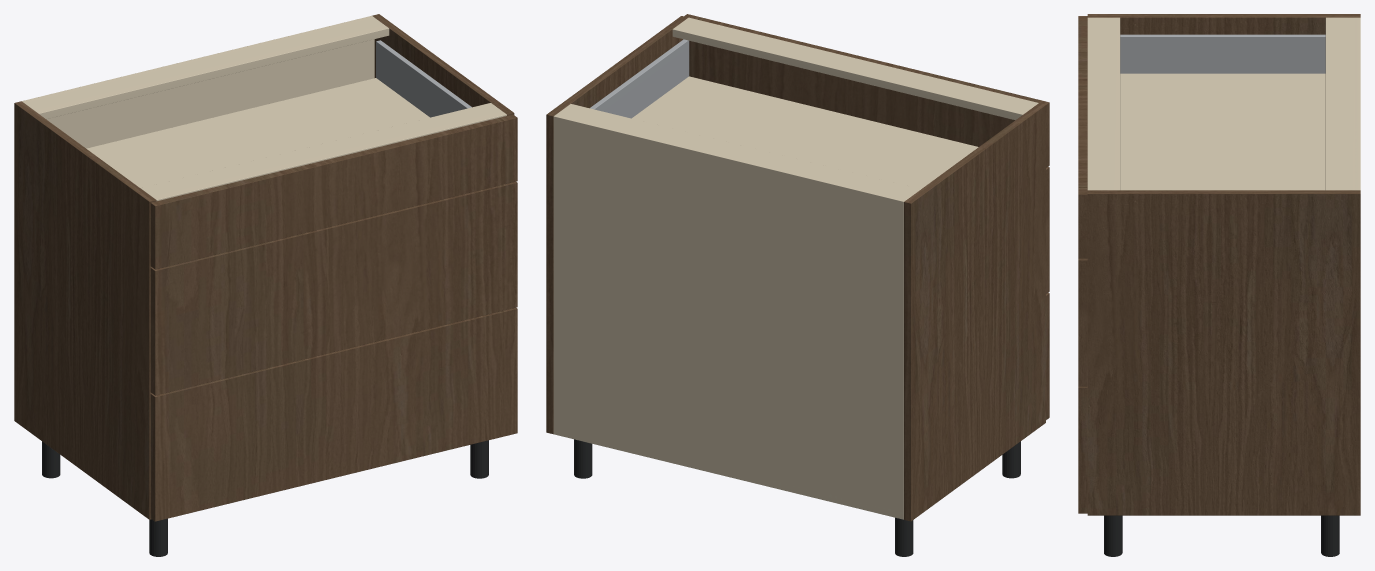
File: oppein-ply-mso-3db36.glb
3 renders of one model, left to right at view 1: azimuth 30°, elevation 25°; view 2: azimuth 150°, elevation 25°; view 3: azimuth 270°, elevation 25°, orthographic.
Parts seen in each view (by area): view 1: Drawer front, Drawer front.001, Cabinet side, Drawer front.002, Drawer floor.002, Cabinet back, Top support rail, Top support rail.001, Drawer side.005, Cabinet side.001, Adjustable foot.001, Adjustable foot.003; view 2: Cabinet back, Cabinet side, Drawer floor.002, Drawer front.002, Top support rail.001, Cabinet side.001, Top support rail, Drawer side.005, Adjustable foot, Adjustable foot.002; view 3: Cabinet side.001, Drawer floor.002, Drawer side.004, Top support rail.001, Top support rail, Cabinet side, Drawer front.002, Drawer front.001, Drawer front, Cabinet back, Adjustable foot.003, Adjustable foot.002.
Part boxes in pixels (bbox=[...]): Drawer front: bbox=[150, 307, 517, 521]; Drawer front.001: bbox=[150, 181, 517, 395]; Cabinet side: bbox=[14, 101, 156, 519]; Drawer front.002: bbox=[150, 114, 517, 269]; Drawer floor.002: bbox=[86, 78, 429, 188]; Cabinet back: bbox=[21, 15, 374, 148]; Top support rail: bbox=[24, 17, 389, 119]; Top support rail.001: bbox=[141, 103, 506, 201]; Drawer side.005: bbox=[376, 40, 471, 117]; Cabinet side.001: bbox=[372, 14, 514, 115]; Adjustable foot.001: bbox=[149, 518, 167, 556]; Adjustable foot.003: bbox=[470, 440, 488, 478]; Cabinet back: bbox=[553, 114, 905, 519]; Cabinet side: bbox=[904, 103, 1045, 521]; Drawer floor.002: bbox=[632, 76, 978, 188]; Drawer front.002: bbox=[684, 14, 1049, 167]; Top support rail.001: bbox=[672, 17, 1038, 120]; Cabinet side.001: bbox=[546, 16, 688, 434]; Top support rail: bbox=[556, 104, 920, 199]; Drawer side.005: bbox=[590, 39, 689, 118]; Adjustable foot: bbox=[895, 517, 913, 556]; Adjustable foot.002: bbox=[574, 439, 592, 478]; Cabinet side.001: bbox=[1087, 190, 1360, 515]; Drawer floor.002: bbox=[1120, 73, 1325, 190]; Drawer side.004: bbox=[1120, 34, 1325, 73]; Top support rail.001: bbox=[1087, 17, 1120, 190]; Top support rail: bbox=[1325, 17, 1357, 190]; Cabinet side: bbox=[1087, 14, 1360, 34]; Drawer front.002: bbox=[1078, 16, 1087, 258]; Drawer front.001: bbox=[1078, 258, 1087, 386]; Drawer front: bbox=[1078, 386, 1087, 513]; Cabinet back: bbox=[1355, 17, 1360, 190]; Adjustable foot.003: bbox=[1104, 515, 1122, 556]; Adjustable foot.002: bbox=[1321, 515, 1339, 556].
Size of the model in its own units: 0.9144 by 0.8763 by 0.6064.
4 materials, 1 textured.
